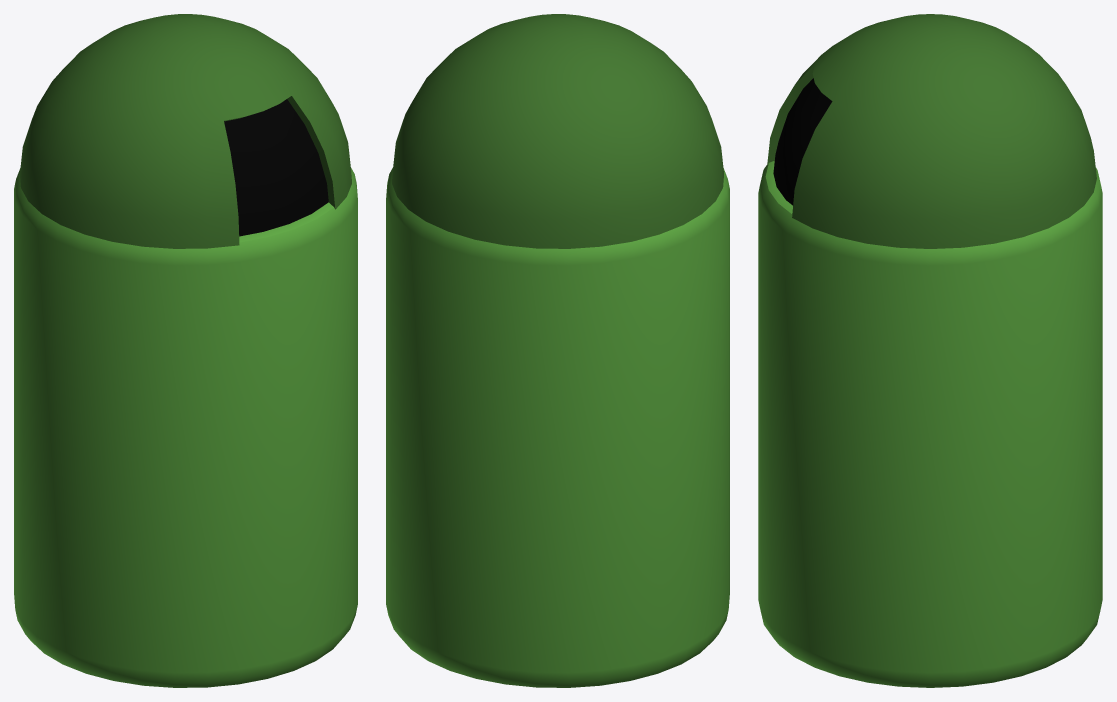
The model's file is Trash.fbx.
3 renders of one model, left to right at view 1: azimuth 30°, elevation 25°; view 2: azimuth 150°, elevation 25°; view 3: azimuth 270°, elevation 25°, orthographic.
Visible parts, largest first — view 1: Trash; view 2: Trash; view 3: Trash.
Part boxes in pixels (x1=…): Trash: x1=14, y1=14, x2=357, y2=687; Trash: x1=386, y1=14, x2=729, y2=687; Trash: x1=758, y1=14, x2=1102, y2=687.
Bounding box in the file's own units: 3.49 × 6.62 × 3.49.
